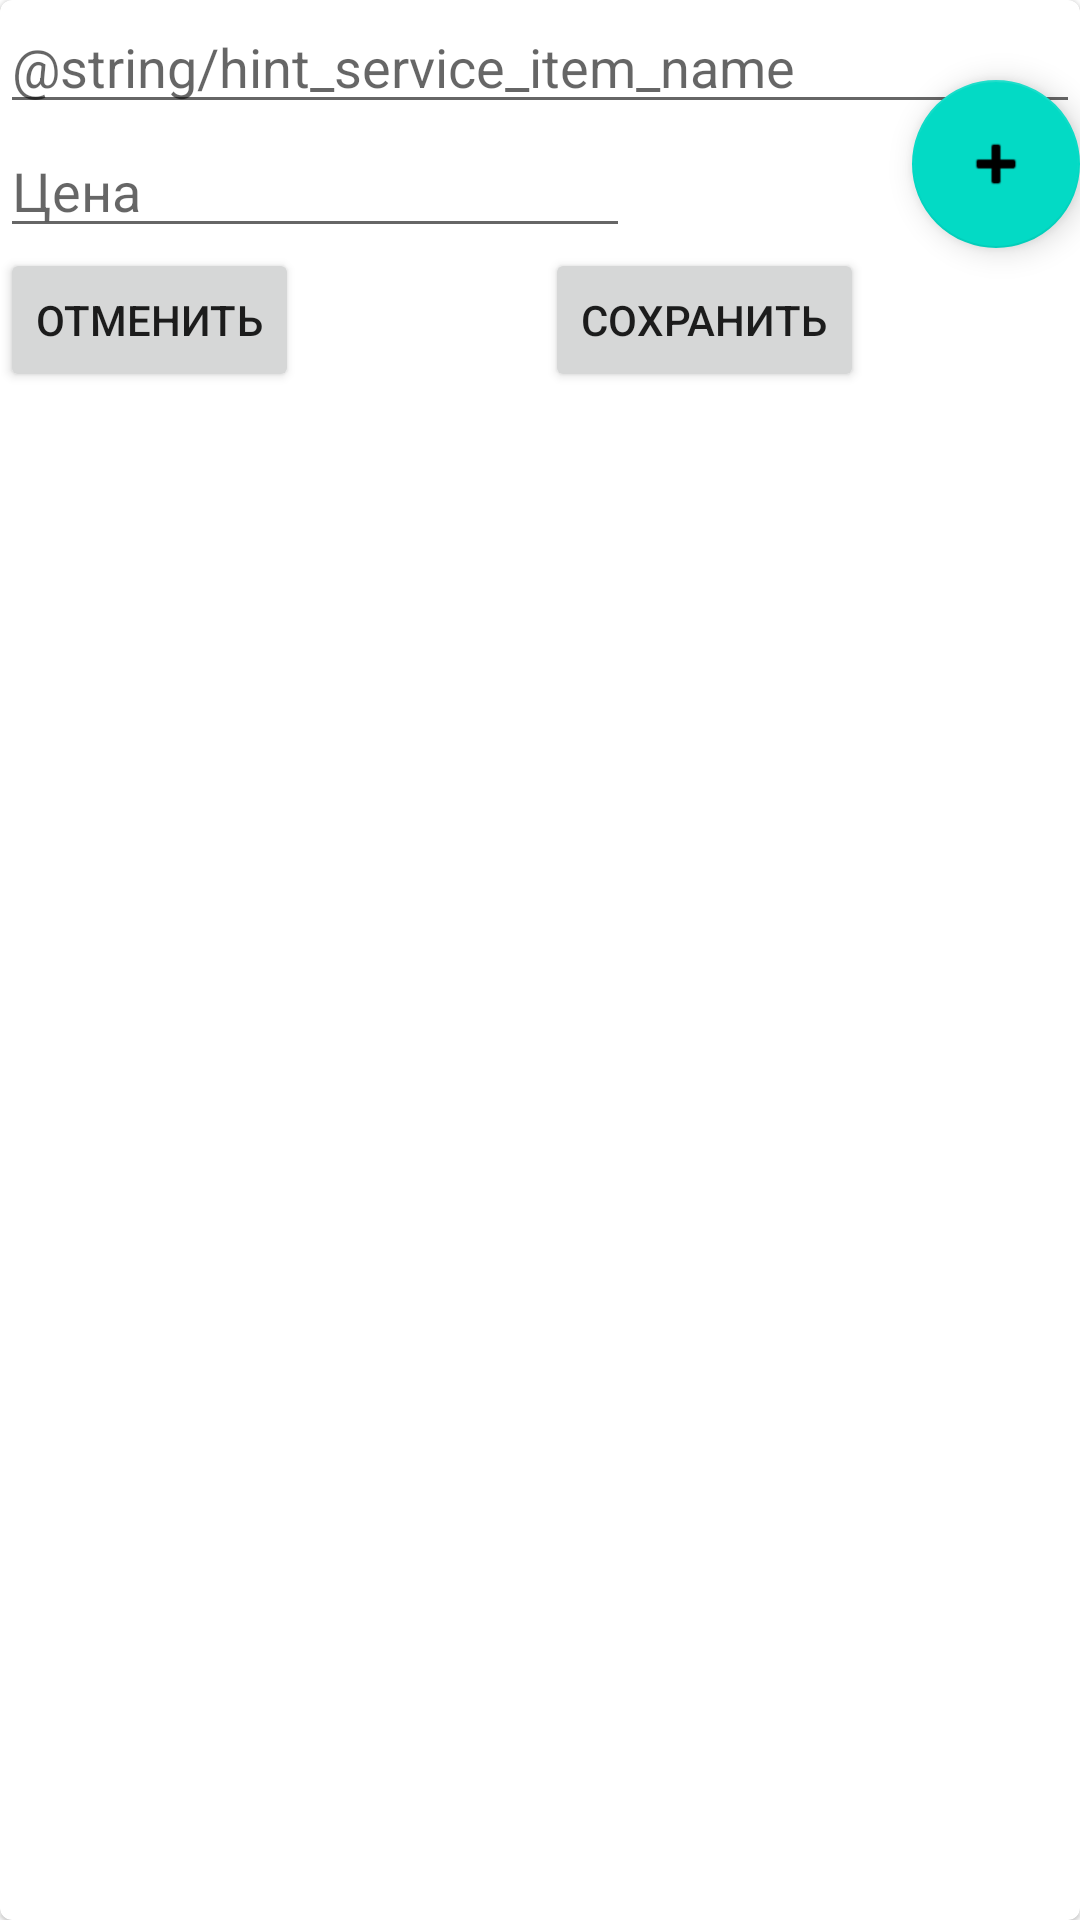

Point at icon controls on the screen. Image size 1080x1920, points as point (x, y).
add: point (996, 164)
